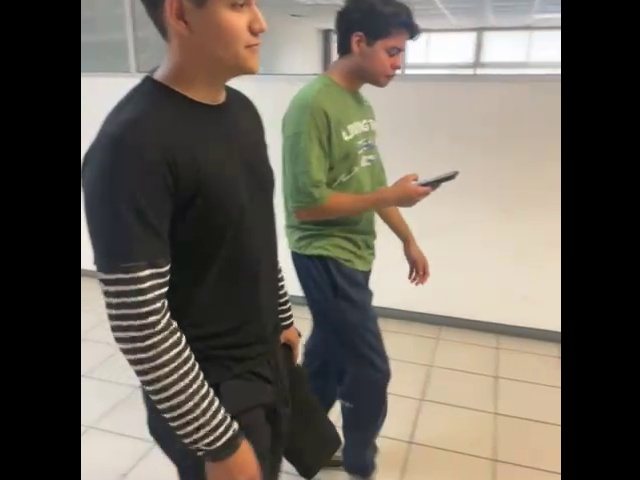mixto2: (407, 165, 459, 191)
